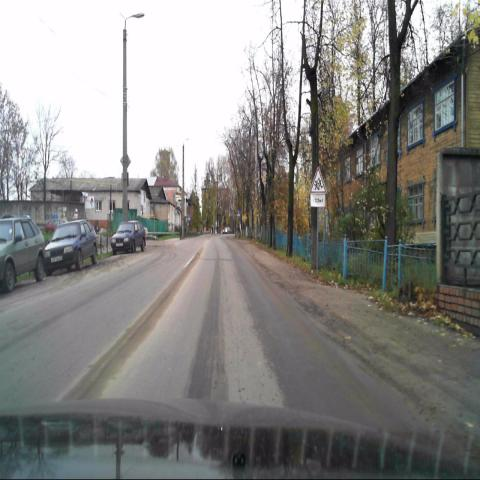1_23: (309, 166, 327, 194)
8_2_1: (310, 193, 325, 207)
